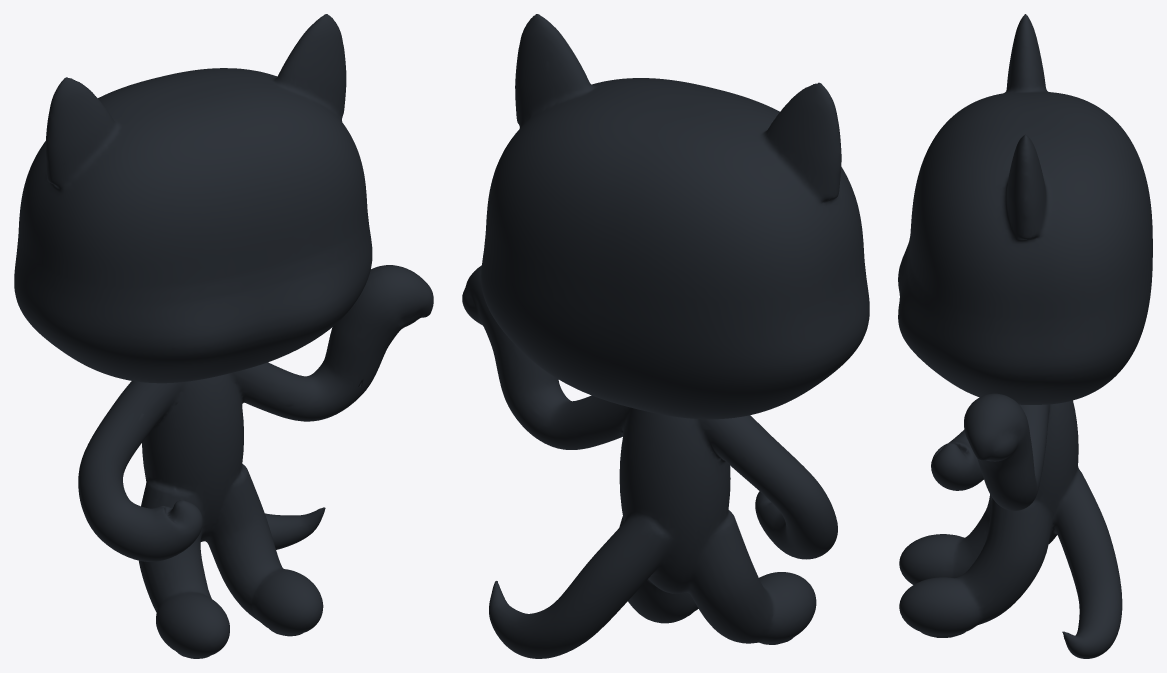
Rendered from copilot_octocat_2_0_v01.glb.
The picture shows the model from 3 angles, left to right: view 1: azimuth 30°, elevation 25°; view 2: azimuth 150°, elevation 25°; view 3: azimuth 270°, elevation 25°; orthographic projection. The views are drawn at different scales.
Visible parts, largest first — view 1: head_and_ears, body_five_tentacles; view 2: head_and_ears, body_five_tentacles; view 3: head_and_ears, body_five_tentacles.
Part boxes in pixels (left/top/right/bottom): head_and_ears: left=14, top=14, right=372, bottom=383; body_five_tentacles: left=78, top=265, right=433, bottom=658; head_and_ears: left=481, top=14, right=869, bottom=419; body_five_tentacles: left=462, top=265, right=837, bottom=658; head_and_ears: left=898, top=14, right=1152, bottom=404; body_five_tentacles: left=899, top=393, right=1122, bottom=658.
Bounding box in the file's own units: 1.26 × 1.8 × 0.7754.
Materials: 1 (1 with a texture image).
